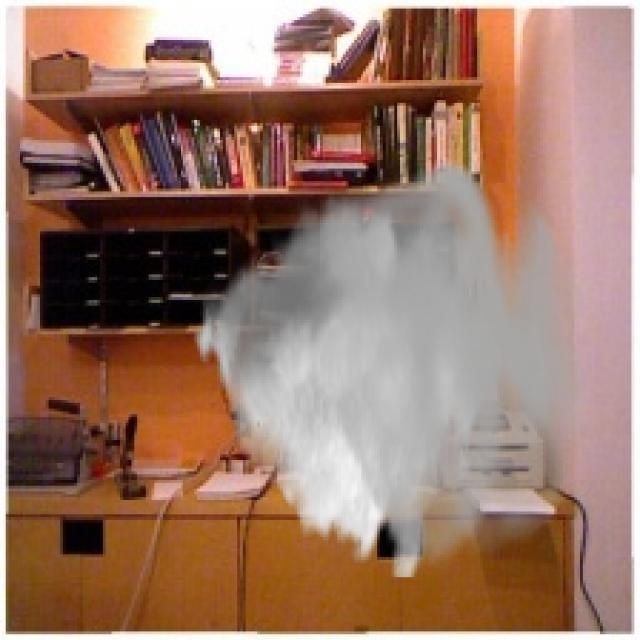Smoke: (192, 154, 588, 577)
